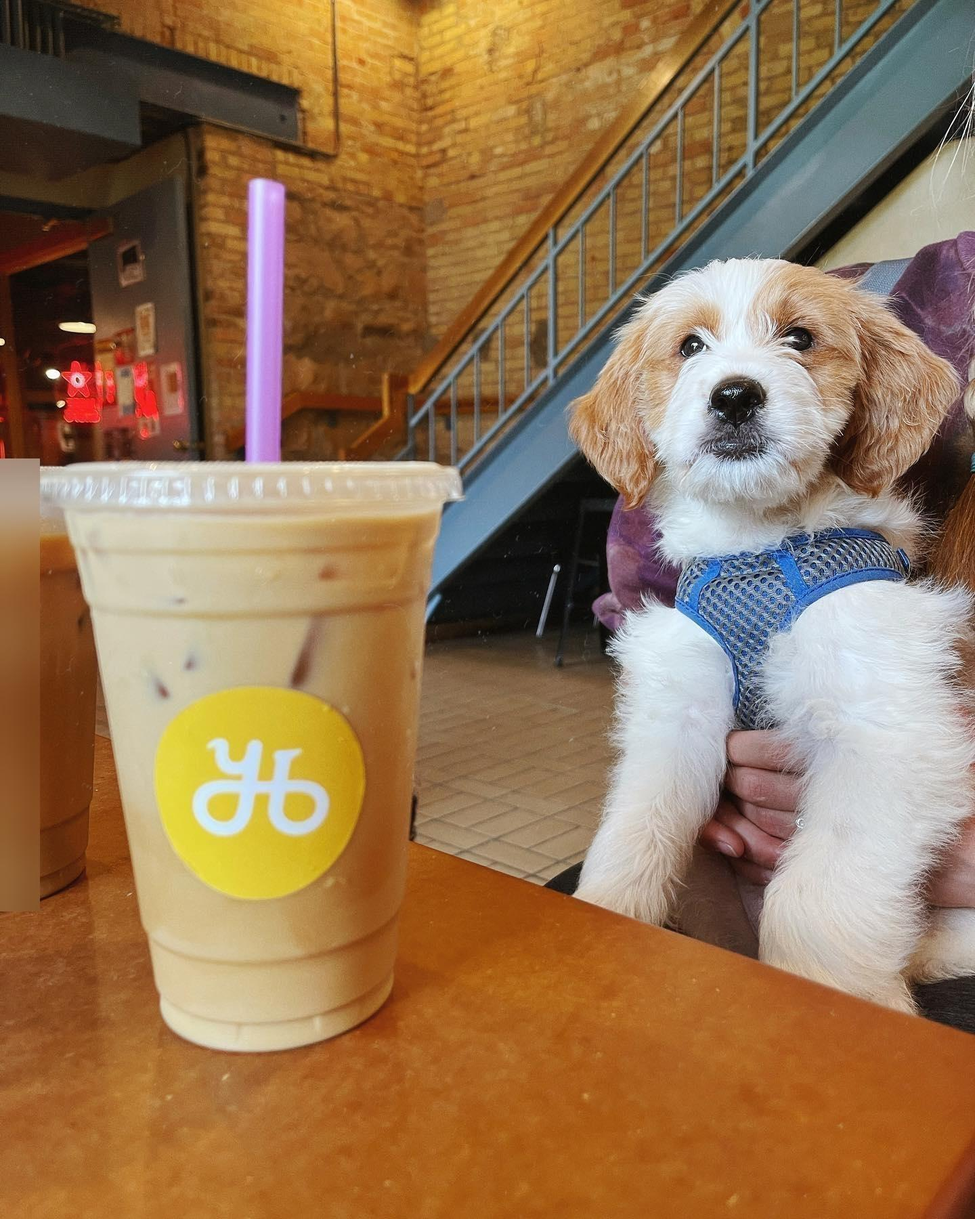cup-disposable: (56, 448, 464, 1064)
